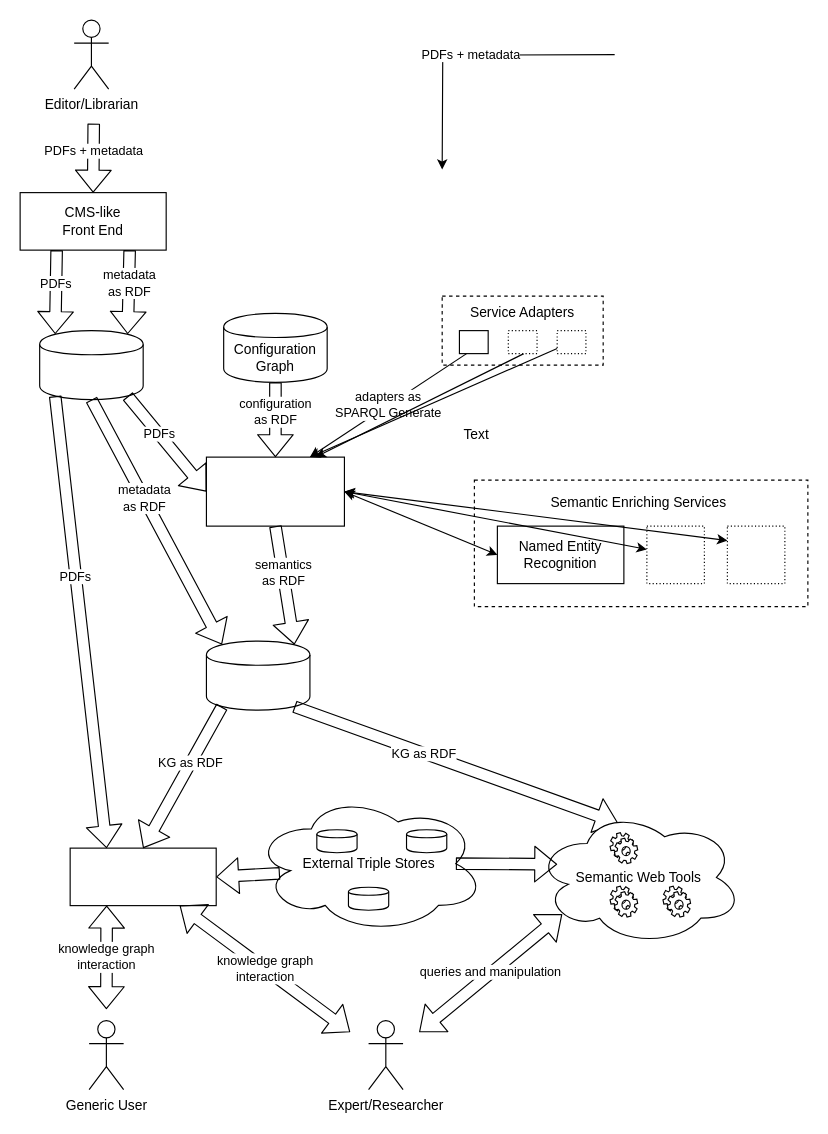
This 828x1134 diagram has some shape labels left out. The centre of each missing label's shape, as x and y in pixels:
KG Search/Explore Front End: [142,876]
Linked Data Container: [91,364]
Service Integration Engine: [274,491]
Triple Store: [257,675]
